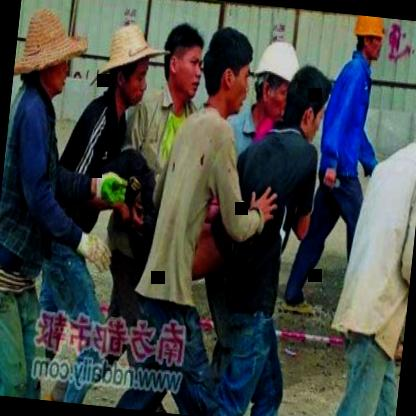helmet: (249, 35, 304, 125), (350, 14, 388, 62)
